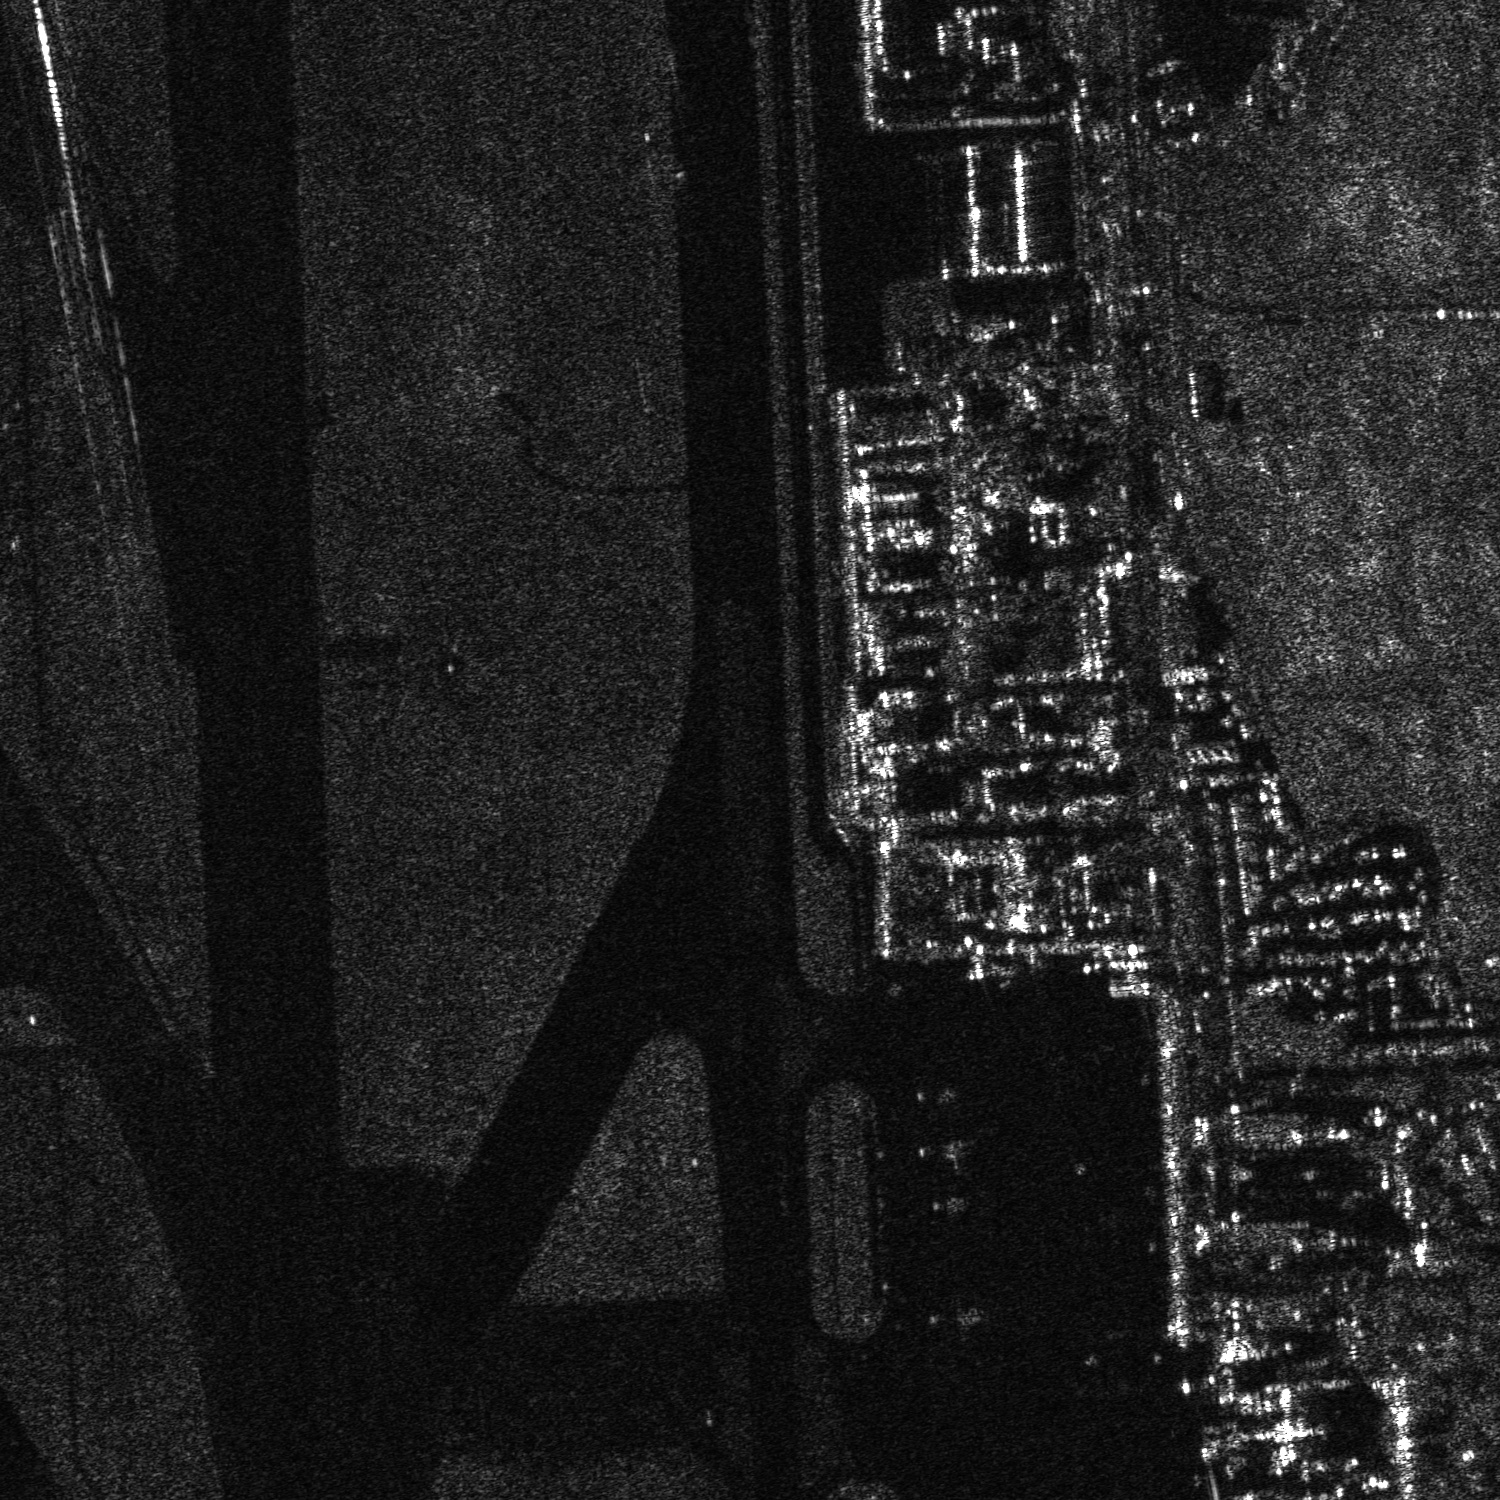ARJ21: (909, 1128, 978, 1172), (920, 1183, 977, 1223)
other: (900, 1073, 967, 1115), (927, 1293, 990, 1335)
